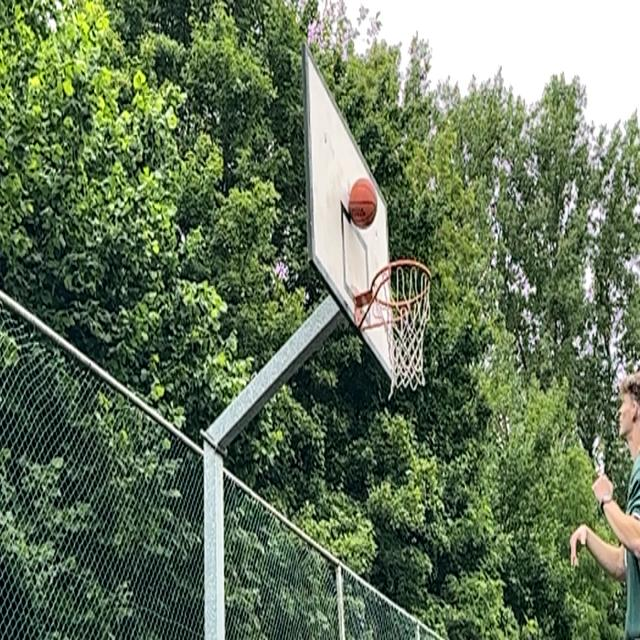rebound_hit: (347, 178, 377, 232)
